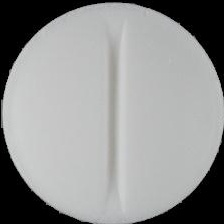54868-0109: (0, 0, 224, 224)
